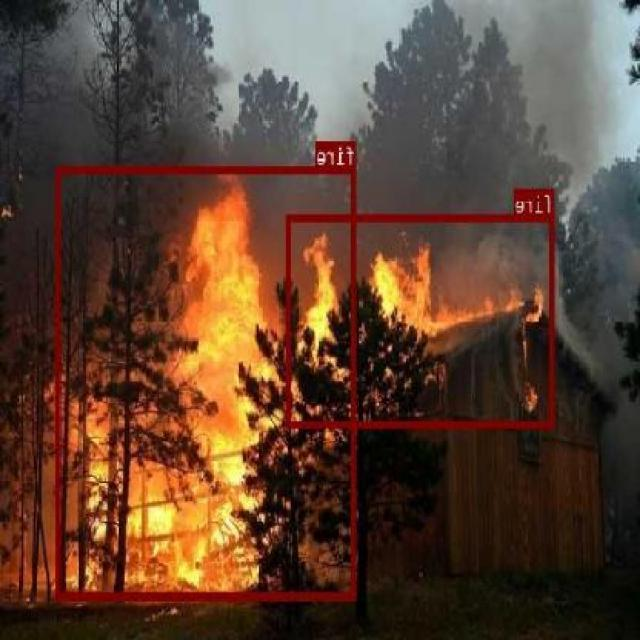Fire: (57, 166, 357, 597), (288, 214, 556, 426)
